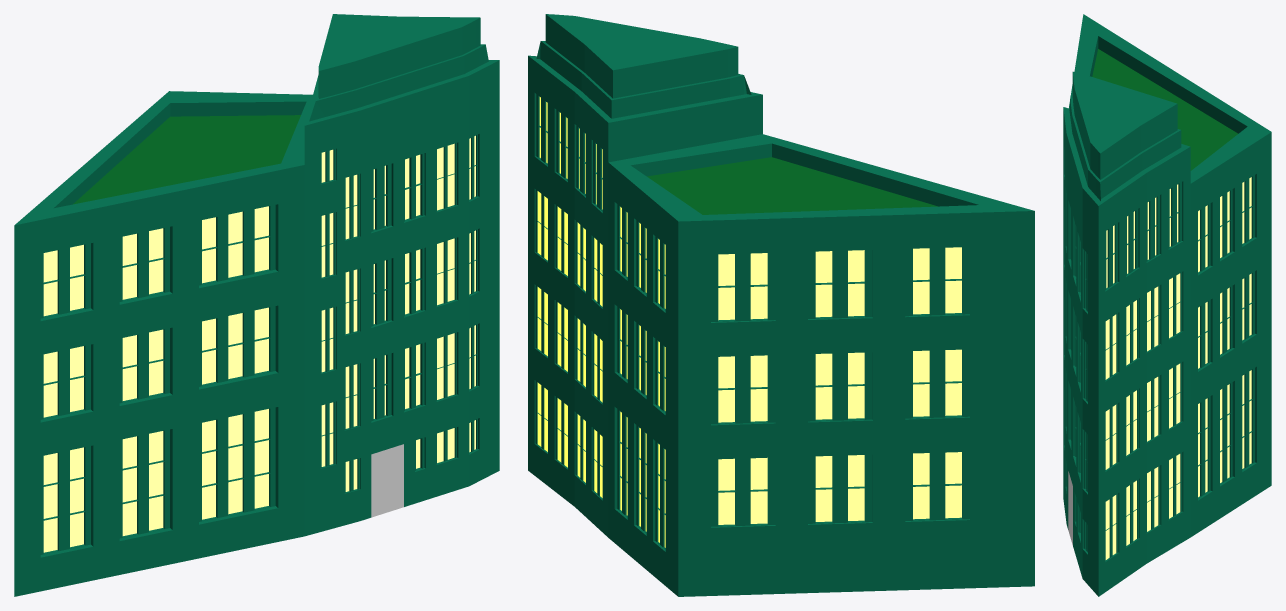
Rendered from 133_waterfront.fbx.
The picture shows the model from 3 angles, left to right: view 1: azimuth 30°, elevation 25°; view 2: azimuth 150°, elevation 25°; view 3: azimuth 270°, elevation 25°; orthographic projection. The views are drawn at different scales.
Visible parts, largest first — view 1: Plane; view 2: Plane; view 3: Plane.
Boxes of the visible parts, left/top/right/bottom form: Plane: left=14, top=14, right=499, bottom=596; Plane: left=528, top=14, right=1034, bottom=596; Plane: left=1063, top=14, right=1271, bottom=596.
Bounding box in the file's own units: 793 × 701 × 305.
